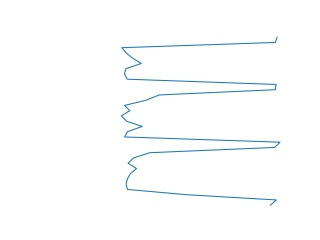majorRiverChannelBar: (117, 37, 287, 205)
